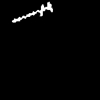double_crochet: (12, 2, 52, 21)
